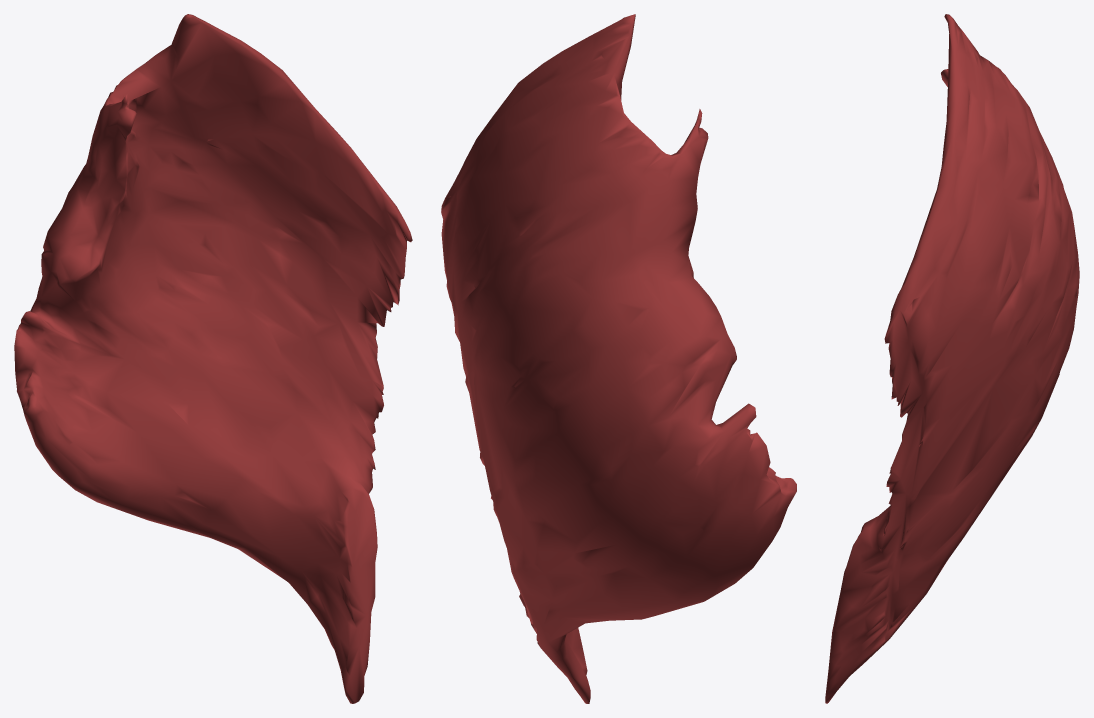
The model's file is gluteus-maximus-muscle-l.glb.
3 views of the same model, side by side, from view 1: azimuth 30°, elevation 25°; view 2: azimuth 150°, elevation 25°; view 3: azimuth 270°, elevation 25° (orthographic). The views are drawn at different scales.
Parts seen in each view (by area): view 1: Gluteus maximus muscle.l; view 2: Gluteus maximus muscle.l; view 3: Gluteus maximus muscle.l.
Part boxes in pixels (x1=…): Gluteus maximus muscle.l: x1=14, y1=14, x2=412, y2=703; Gluteus maximus muscle.l: x1=441, y1=14, x2=796, y2=703; Gluteus maximus muscle.l: x1=825, y1=14, x2=1079, y2=703.
Bounding box in the file's own units: 0.1454 × 0.2695 × 0.097.
